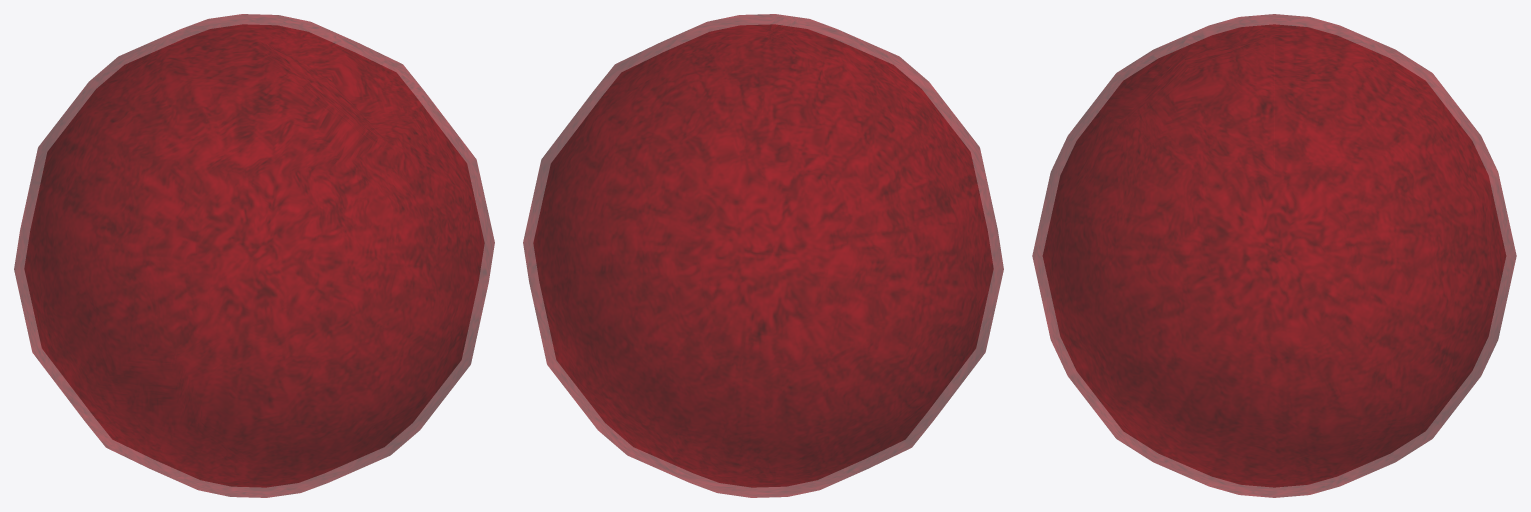
File: Enclosure.fbx
3 views of the same model, side by side, from view 1: azimuth 30°, elevation 25°; view 2: azimuth 150°, elevation 25°; view 3: azimuth 270°, elevation 25° (orthographic).
Visible parts, largest first — view 1: Enclosure; view 2: Enclosure; view 3: Enclosure.
Boxes of the visible parts, <box> form: Enclosure: <box>14,14,494,497</box>; Enclosure: <box>523,14,1003,497</box>; Enclosure: <box>1032,14,1516,497</box>.
Size of the model in its own units: 4671 by 4671 by 4671.
